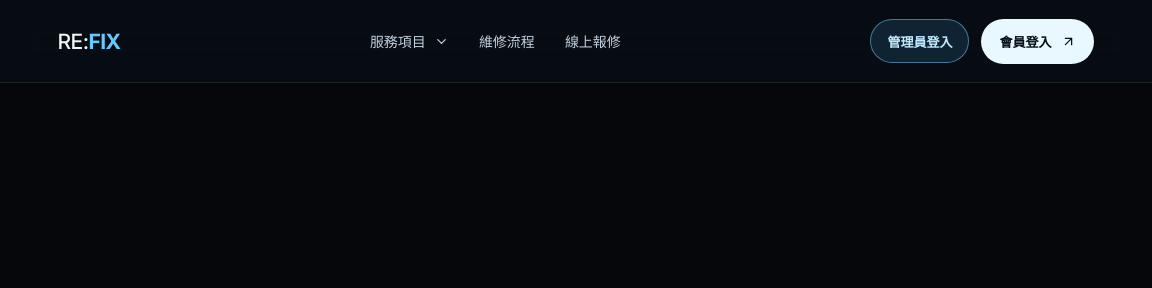
Scenario: opens service links by click and closes by Escape with focus restored
Click the button "服務項目" at [409, 41], box top-left (370, 15), bottom-right (449, 67)
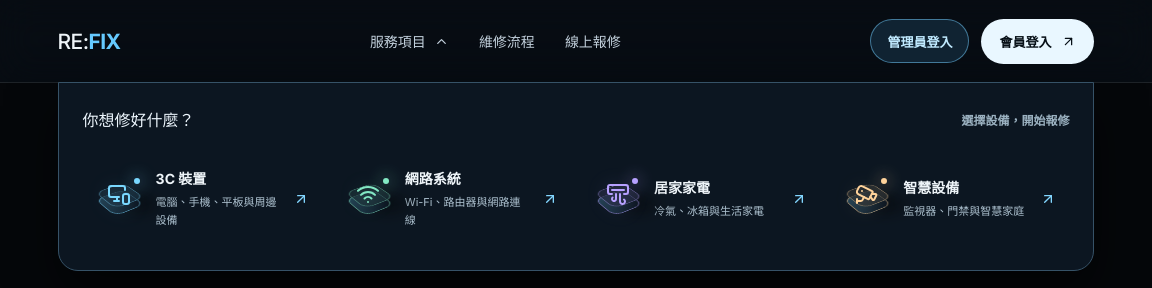
Result: the button "服務項目" is expanded at top-left (370, 15), bottom-right (449, 67)
Press Escape
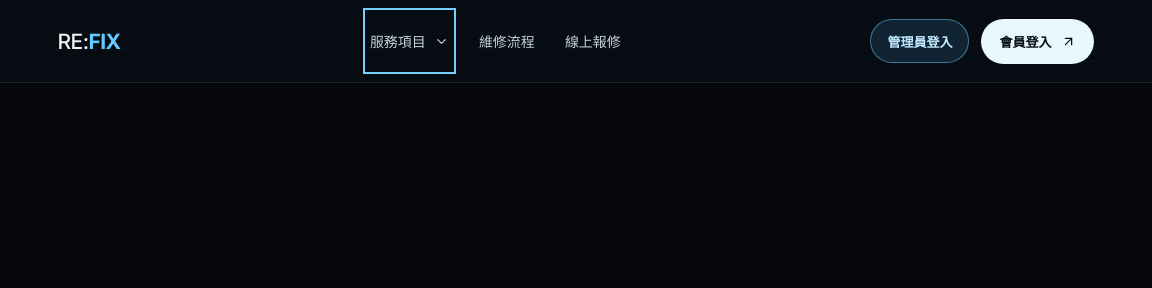
Result: the button "服務項目" is collapsed at top-left (370, 15), bottom-right (449, 67)
